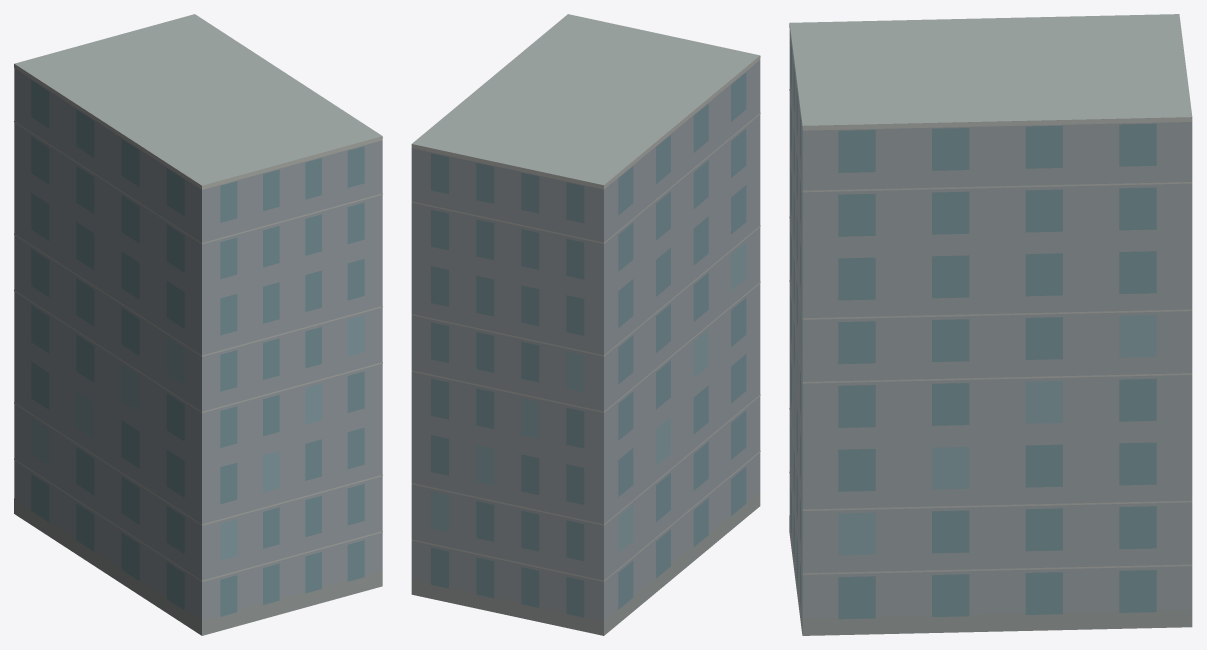
File: survey-upis-32547511.glb
3 renders of one model, left to right at view 1: azimuth 30°, elevation 25°; view 2: azimuth 150°, elevation 25°; view 3: azimuth 270°, elevation 25°, orthographic. The views are drawn at different scales.
Parts seen in each view (by area): view 1: survey-upis-32547511.tmp; view 2: survey-upis-32547511.tmp; view 3: survey-upis-32547511.tmp.
Part boxes in pixels (x1=…): survey-upis-32547511.tmp: x1=14, y1=14, x2=382, y2=635; survey-upis-32547511.tmp: x1=411, y1=14, x2=760, y2=635; survey-upis-32547511.tmp: x1=789, y1=14, x2=1192, y2=635.
Bounding box in the file's own units: 12.2 × 25.9 × 18.56.
